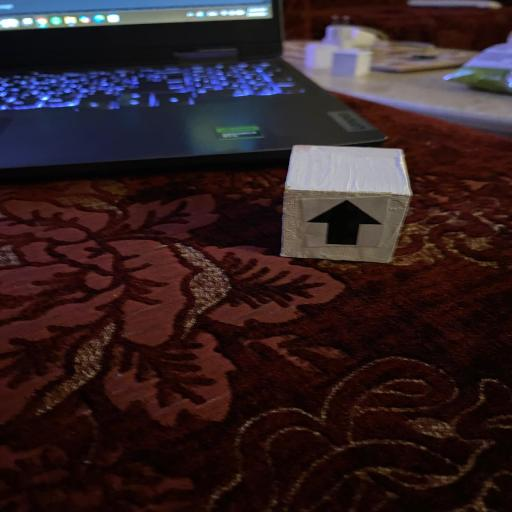Up: (277, 144, 414, 262)
